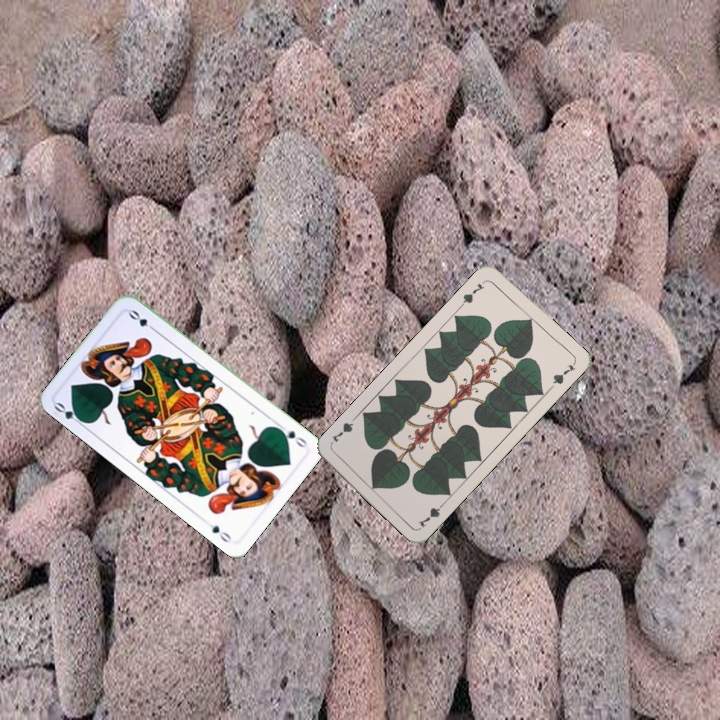G7: (414, 497, 448, 530), (456, 276, 488, 309)
GO: (50, 398, 88, 429), (273, 420, 310, 450)
